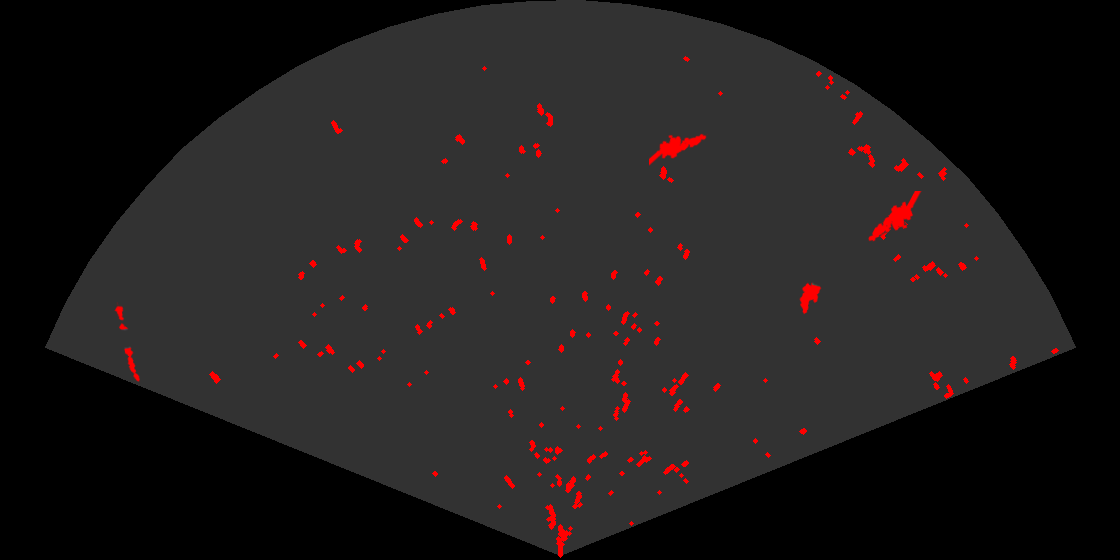AUV: (798, 281, 823, 316)
chain: (113, 302, 141, 384)
frogman: (867, 191, 922, 243), (649, 132, 708, 167)
